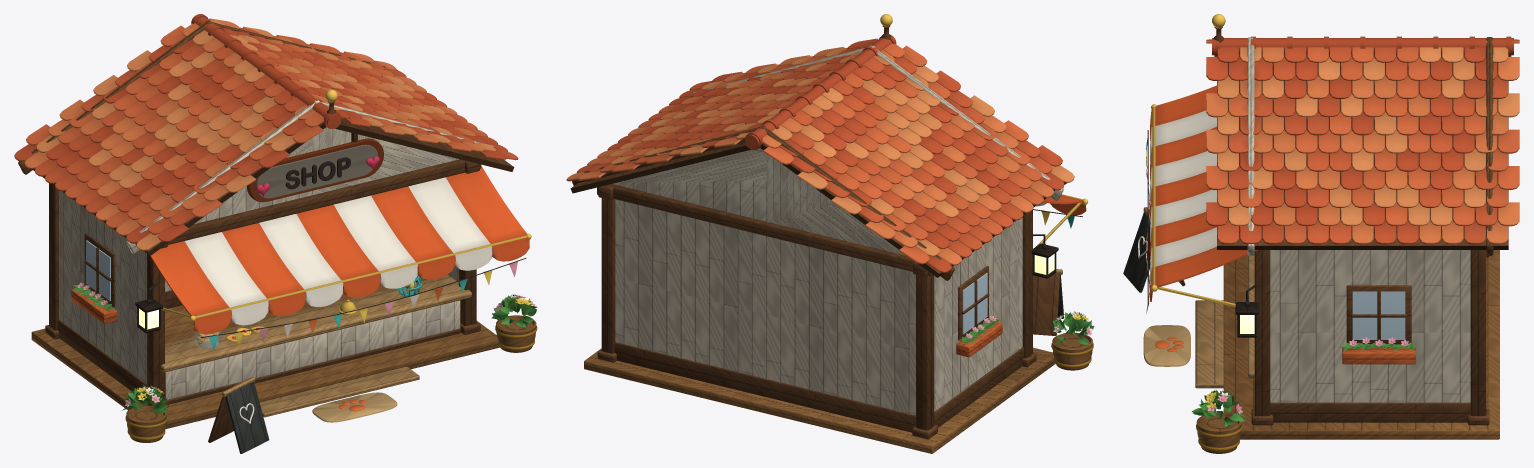
The model's file is shop.glb.
3 renders of one model, left to right at view 1: azimuth 30°, elevation 25°; view 2: azimuth 150°, elevation 25°; view 3: azimuth 270°, elevation 25°, orthographic. The views are drawn at different scales.
Visible parts, largest first — view 1: Shop, ShopGoods; view 2: Shop; view 3: Shop.
Part boxes in pixels (x1,y1,x2,y2): Shop: (14, 14, 537, 453); ShopGoods: (196, 275, 421, 344); Shop: (566, 14, 1094, 453); Shop: (1123, 14, 1519, 453).
Bounding box in the file's own units: 1.21 × 0.848 × 0.9169.
45 materials, 4 textured.
